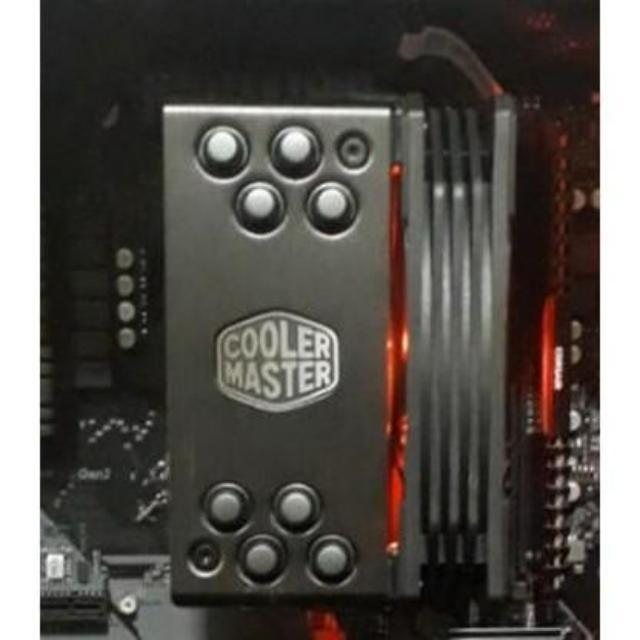CPU_Fan: (155, 93, 513, 615)
